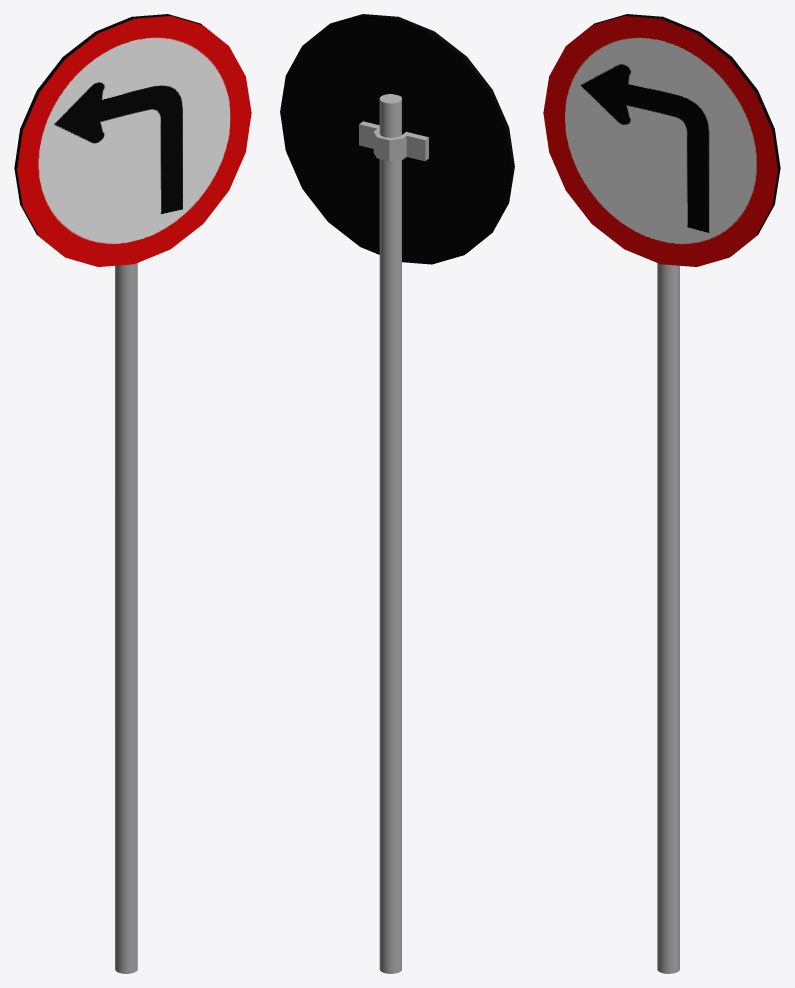
The model's file is ESQUERDA1.fbx.
3 renders of one model, left to right at view 1: azimuth 30°, elevation 25°; view 2: azimuth 150°, elevation 25°; view 3: azimuth 330°, elevation 25°, orthographic.
Parts seen in each view (by area): view 1: pCylinder3, pCylinder2; view 2: pCylinder3, pCylinder2, pPipe1; view 3: pCylinder3, pCylinder2.
Boxes of the visible parts, left/top/right/bottom form: pCylinder3: left=14, top=14, right=251, bottom=266; pCylinder2: left=115, top=263, right=137, bottom=973; pCylinder3: left=280, top=14, right=514, bottom=264; pCylinder2: left=379, top=94, right=401, bottom=973; pPipe1: left=359, top=121, right=428, bottom=161; pCylinder3: left=543, top=14, right=780, bottom=266; pCylinder2: left=657, top=263, right=679, bottom=973.
Bounding box in the file's own units: 4.92 × 19.15 × 0.5752.
